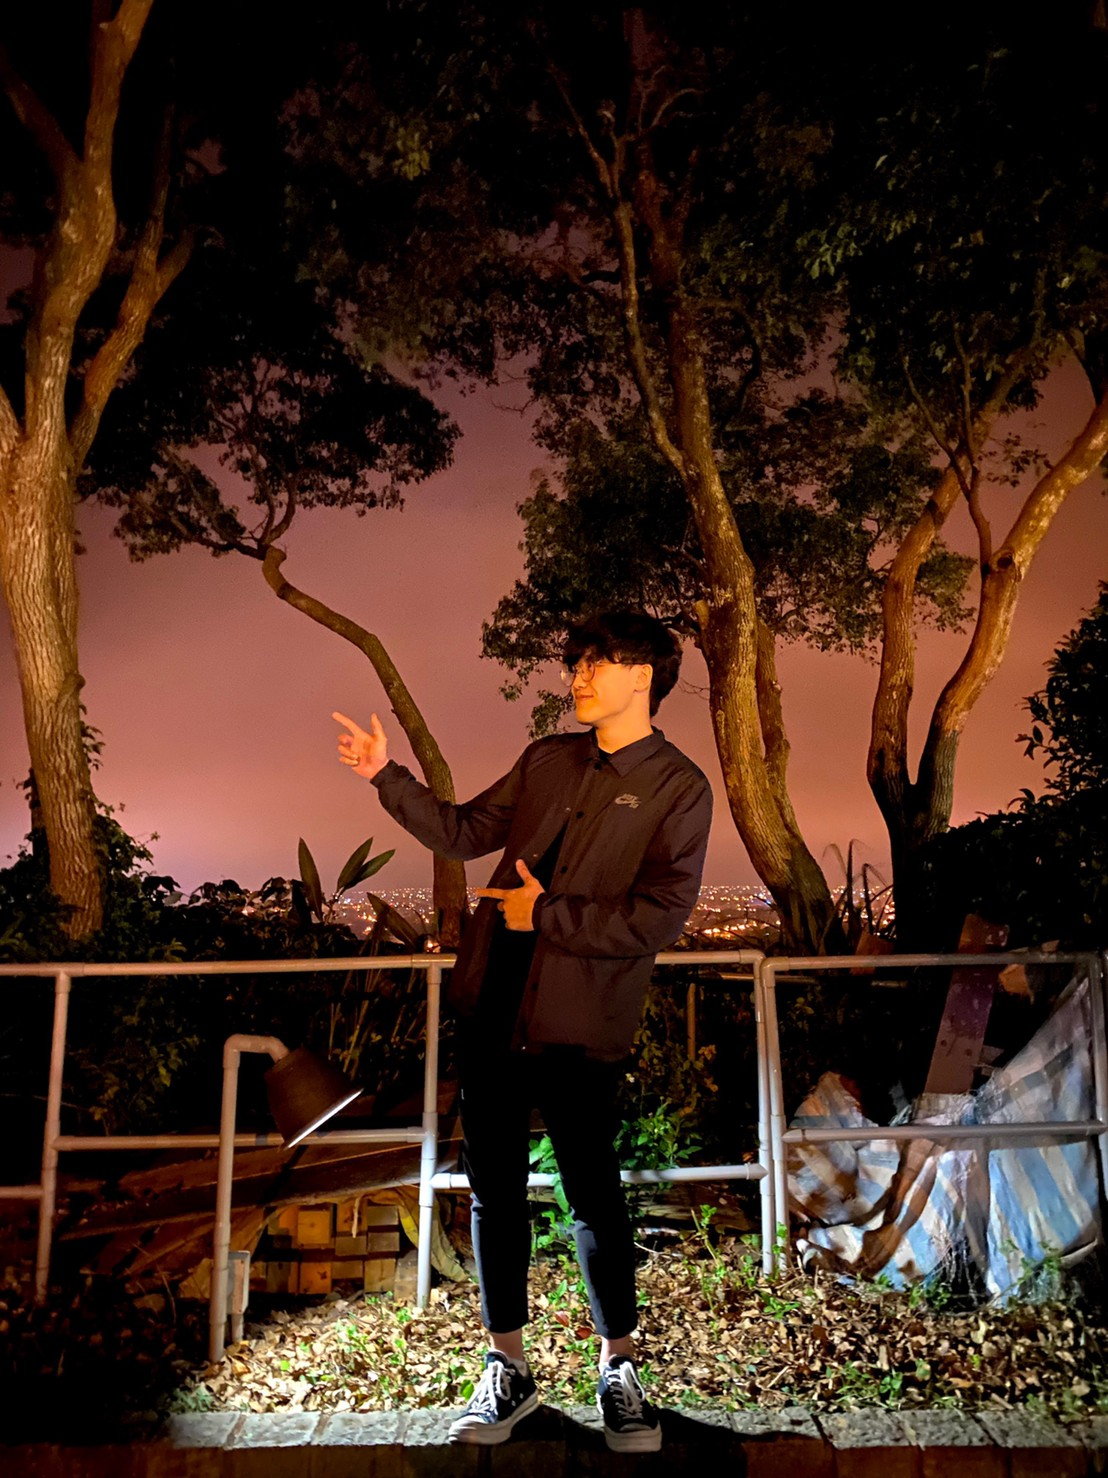people: (478, 619, 676, 1450)
